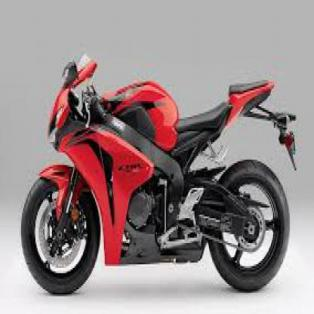Motocicleta: (18, 48, 302, 295)
